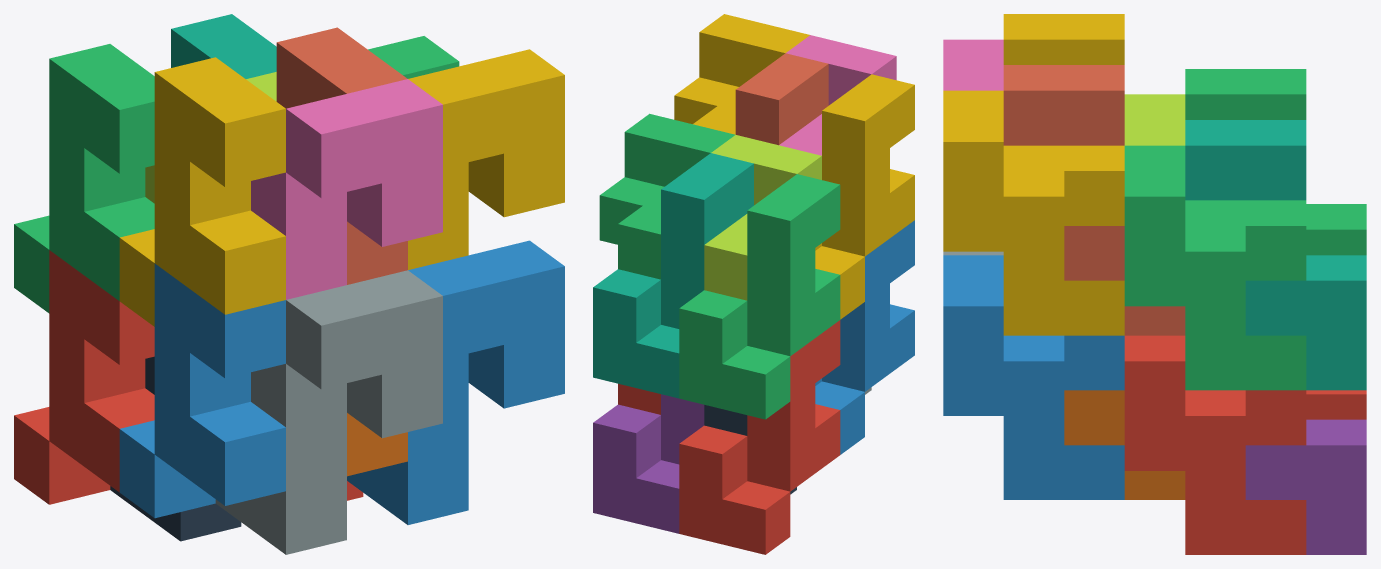
File: tiling.obj
3 views of the same model, side by side, from view 1: azimuth 30°, elevation 25°; view 2: azimuth 150°, elevation 25°; view 3: azimuth 270°, elevation 25° (orthographic). The views are drawn at different scales.
Parts seen in each view (by area): view 1: copy_2_domain_2, copy_1_domain_4, copy_1_domain_2, copy_2_domain_4, copy_2_domain_6, copy_1_domain_3, copy_1_domain_1, copy_2_domain_8, copy_1_domain_8, copy_1_domain_7, copy_2_domain_1, copy_1_domain_6 (+2 smaller); view 2: copy_1_domain_3, copy_1_domain_1, copy_1_domain_7, copy_1_domain_4, copy_1_domain_5, copy_1_domain_2, copy_2_domain_7, copy_2_domain_8, copy_1_domain_8, copy_2_domain_3, copy_2_domain_4, copy_2_domain_1 (+1 smaller); view 3: copy_2_domain_7, copy_2_domain_8, copy_2_domain_6, copy_2_domain_5, copy_1_domain_7, copy_1_domain_8, copy_1_domain_5, copy_1_domain_3, copy_1_domain_4, copy_1_domain_6, copy_2_domain_3, copy_2_domain_4 (+1 smaller).
Boxes of the visible parts, x1,y1,x2,y2 form: copy_2_domain_2: (215,270,442,554); copy_1_domain_4: (119,57,285,326); copy_1_domain_2: (119,263,285,518); copy_2_domain_4: (251,79,442,299); copy_2_domain_6: (347,240,564,524); copy_1_domain_3: (14,44,154,313); copy_1_domain_1: (14,250,154,504); copy_2_domain_8: (408,49,564,269); copy_1_domain_8: (276,27,407,284); copy_1_domain_7: (171,14,276,78); copy_2_domain_1: (110,356,241,541); copy_1_domain_6: (347,413,407,476); copy_1_domain_3: (679,174,840,419); copy_1_domain_1: (679,320,840,554); copy_1_domain_7: (593,153,753,398); copy_1_domain_4: (815,74,914,319); copy_1_domain_5: (593,394,704,533); copy_1_domain_2: (815,220,914,454); copy_2_domain_7: (599,113,735,279); copy_2_domain_8: (674,14,809,134); copy_1_domain_8: (735,53,828,145); copy_2_domain_3: (704,135,821,300); copy_2_domain_4: (779,35,896,155); copy_2_domain_1: (704,405,796,494); copy_2_domain_7: (1124,145,1306,390); copy_2_domain_8: (943,90,1124,335); copy_2_domain_6: (943,255,1124,499); copy_2_domain_5: (1124,335,1306,554); copy_1_domain_7: (1185,120,1366,390); copy_1_domain_8: (1003,65,1185,335); copy_1_domain_5: (1245,419,1366,554); copy_1_domain_3: (1185,69,1366,255); copy_1_domain_4: (1003,14,1124,64); copy_1_domain_6: (1064,390,1185,499); copy_2_domain_3: (1124,94,1185,145); copy_2_domain_4: (943,39,1003,90).
Size of the model in its own units: 5 by 8 by 7.
